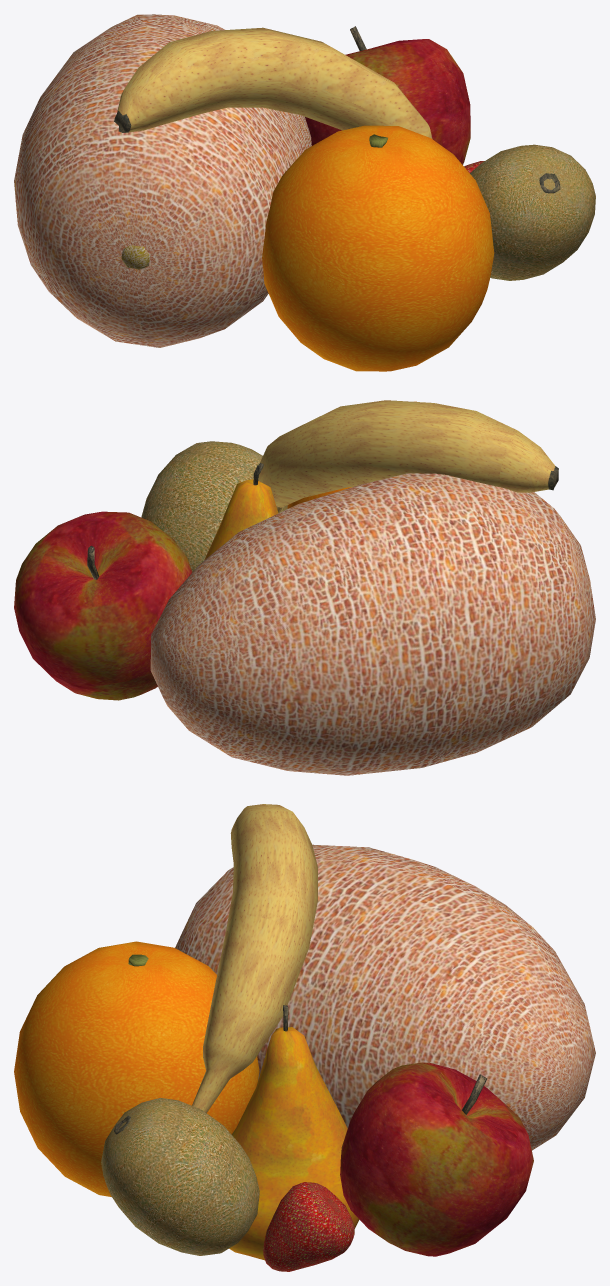
File: Fruits pack.obj
3 views of the same model, one above another, from view 1: azimuth 30°, elevation 25°; view 2: azimuth 150°, elevation 25°; view 3: azimuth 270°, elevation 25° (orthographic). The views are drawn at different scales.
Visible parts, largest first — view 1: Icosphere.003_Icosphere.004, Icosphere.002_Icosphere.003, Circle_Circle.001, Icosphere.004_Icosphere.005, Icosphere_Icosphere.002; view 2: Icosphere.003_Icosphere.004, Icosphere_Icosphere.002, Circle_Circle.001, Icosphere.004_Icosphere.005, Icosphere.005_Icosphere.006; view 3: Icosphere.003_Icosphere.004, Icosphere.002_Icosphere.003, Icosphere_Icosphere.002, Circle_Circle.001, Icosphere.004_Icosphere.005, Icosphere.005_Icosphere.006, Icosphere.001.
Boxes of the visible parts, <box> form: Icosphere.003_Icosphere.004: <box>14,14,311,347</box>; Icosphere.002_Icosphere.003: <box>262,125,494,371</box>; Circle_Circle.001: <box>114,27,432,139</box>; Icosphere.004_Icosphere.005: <box>470,144,595,280</box>; Icosphere_Icosphere.002: <box>305,26,470,164</box>; Icosphere.003_Icosphere.004: <box>150,473,595,775</box>; Icosphere_Icosphere.002: <box>14,511,192,700</box>; Circle_Circle.001: <box>258,400,558,513</box>; Icosphere.004_Icosphere.005: <box>141,441,287,571</box>; Icosphere.005_Icosphere.006: <box>204,463,278,559</box>; Icosphere.003_Icosphere.004: <box>175,844,595,1150</box>; Icosphere.002_Icosphere.003: <box>14,941,259,1196</box>; Icosphere_Icosphere.002: <box>340,1062,533,1256</box>; Circle_Circle.001: <box>192,804,317,1112</box>; Icosphere.004_Icosphere.005: <box>101,1097,259,1255</box>; Icosphere.005_Icosphere.006: <box>229,1005,359,1260</box>; Icosphere.001: <box>263,1182,354,1271</box>.
Bounding box in the file's own units: 6.3 × 3.93 × 6.25.
Materials: 7 (7 with a texture image).
